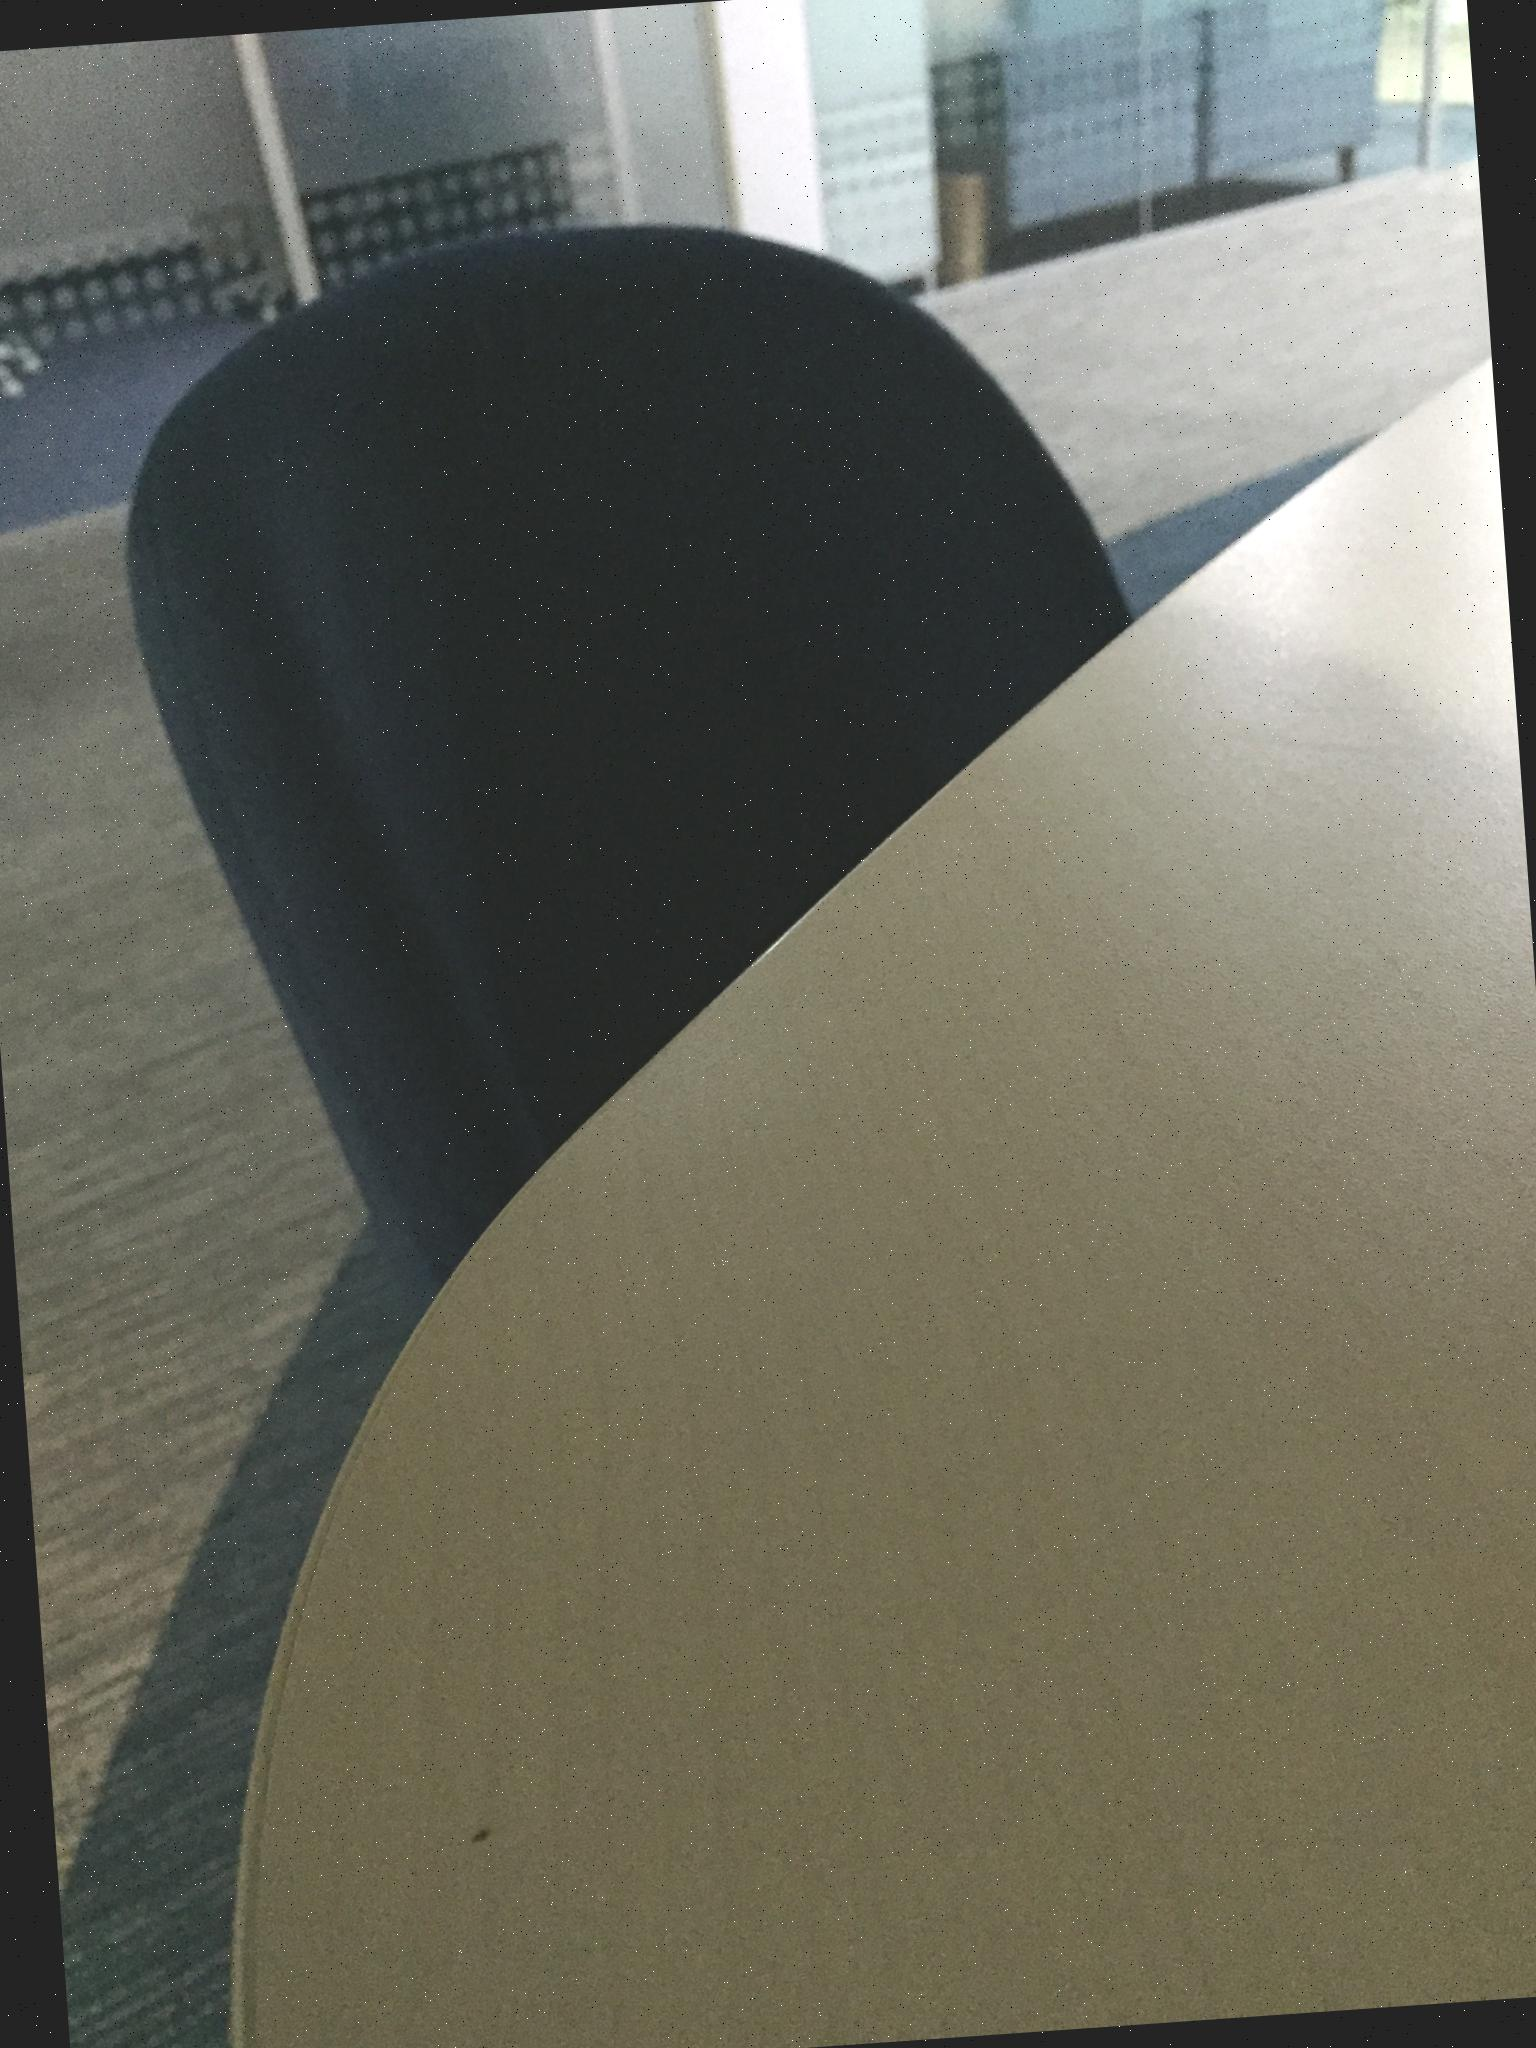chair: (102, 184, 1178, 1300)
